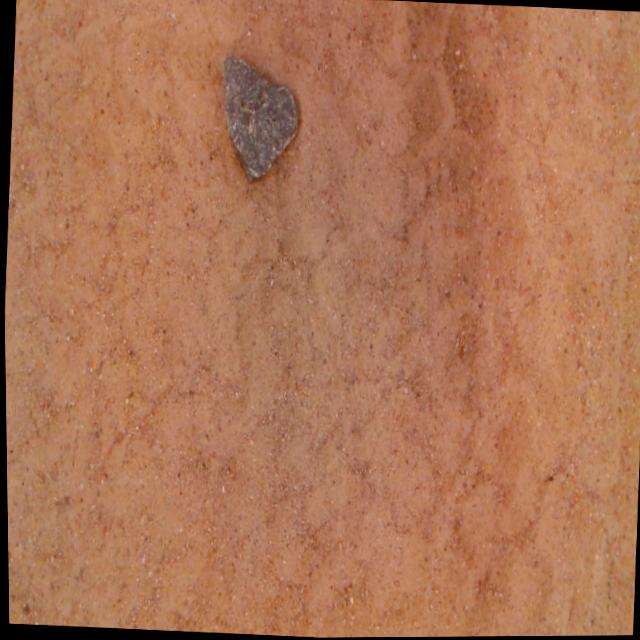rock: (224, 59, 298, 183)
